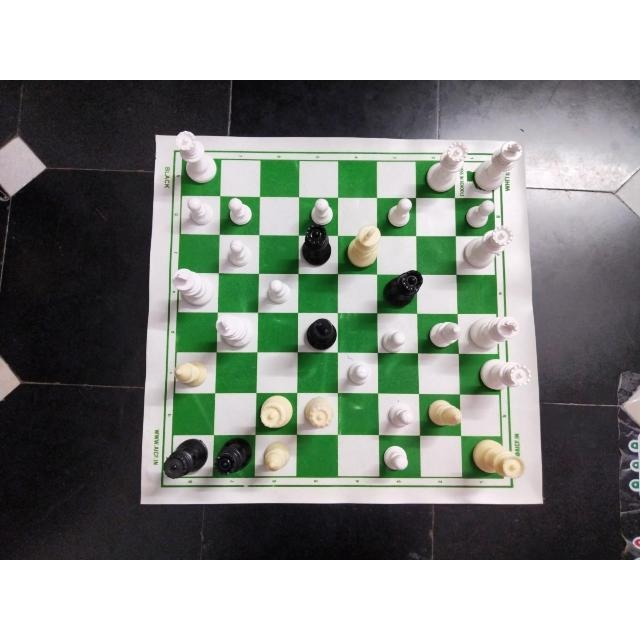black-king: (302, 314, 338, 350)
black-queen: (161, 433, 209, 482), (380, 267, 424, 312), (212, 438, 255, 480), (297, 224, 335, 270)
white-bishop: (425, 399, 465, 431), (258, 440, 292, 476), (170, 356, 208, 388)
white-king: (473, 140, 523, 196), (341, 223, 385, 272), (463, 314, 520, 350), (170, 265, 214, 309), (212, 310, 255, 348), (428, 316, 460, 350)
white-pawn: (381, 195, 417, 234), (221, 195, 258, 231), (377, 441, 413, 474), (181, 196, 217, 228), (461, 197, 495, 230), (383, 399, 417, 431), (306, 197, 338, 229), (225, 238, 253, 268), (378, 329, 410, 355), (341, 361, 373, 387), (264, 279, 295, 304)
white-queen: (467, 438, 528, 484), (170, 131, 220, 185), (475, 357, 535, 397), (422, 140, 468, 192), (459, 225, 511, 271), (256, 395, 295, 435), (300, 392, 336, 434)
